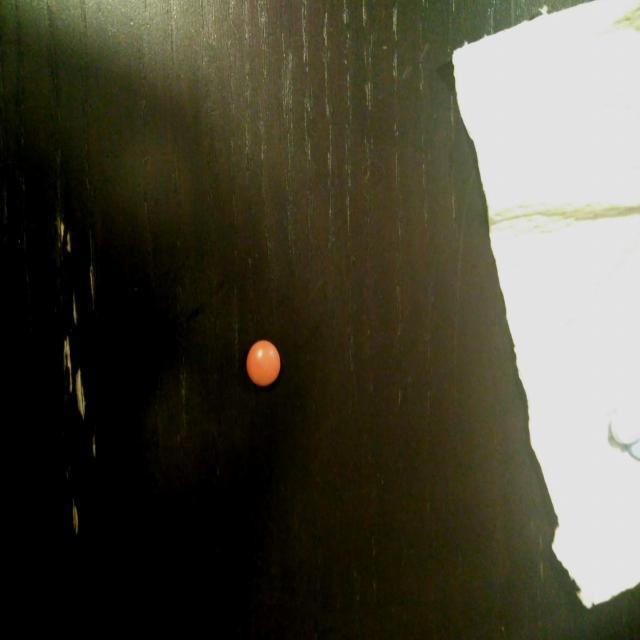pill: (243, 336, 286, 392)
